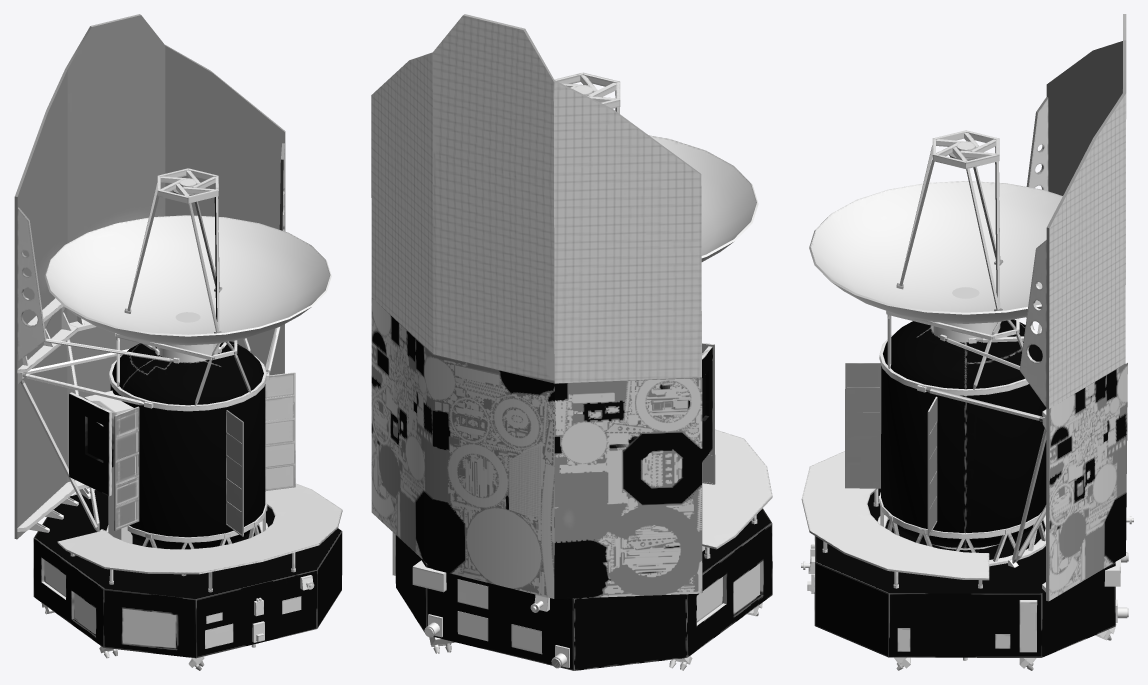
The model's file is herschel.glb.
3 renders of one model, left to right at view 1: azimuth 30°, elevation 25°; view 2: azimuth 150°, elevation 25°; view 3: azimuth 270°, elevation 25°, orthographic. The views are drawn at different scales.
Visible parts, largest first — view 1: shade, cryo, tele, svm; view 2: shade, svm, cryo, tele; view 3: cryo, shade, tele, svm.
Part boxes in pixels (box(x1,y1,x2,y2)): shade: box(14, 14, 285, 539); cryo: box(20, 326, 342, 592); tele: box(44, 168, 331, 360); svm: box(33, 490, 342, 670); shade: box(371, 14, 702, 599); svm: box(392, 508, 772, 670); cryo: box(702, 343, 772, 558); tele: box(554, 72, 758, 261); cryo: box(801, 315, 1046, 588); shade: box(976, 14, 1127, 601); tele: box(809, 130, 1062, 340); svm: box(801, 488, 1133, 670).
Bounding box in the file's own units: 155 × 292 × 151.
Materials: 1 (1 with a texture image).
